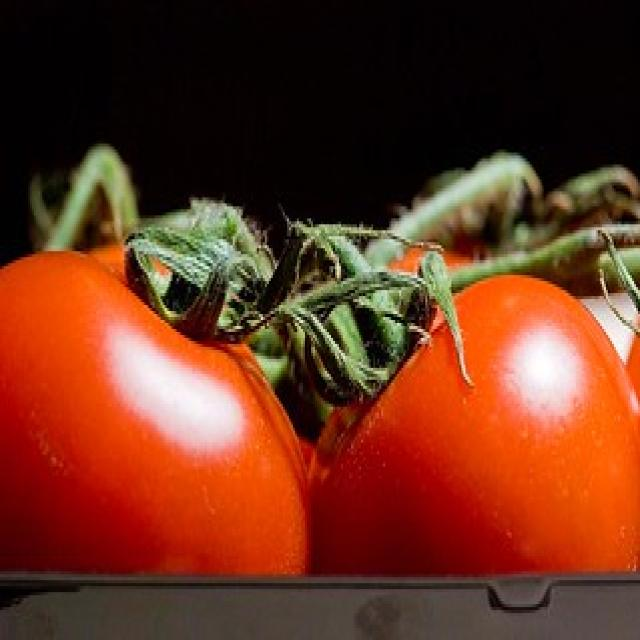Tomato: (0, 223, 304, 581), (306, 264, 639, 584)
